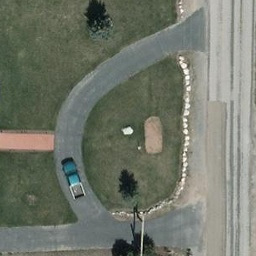car: (60, 156, 86, 199)
